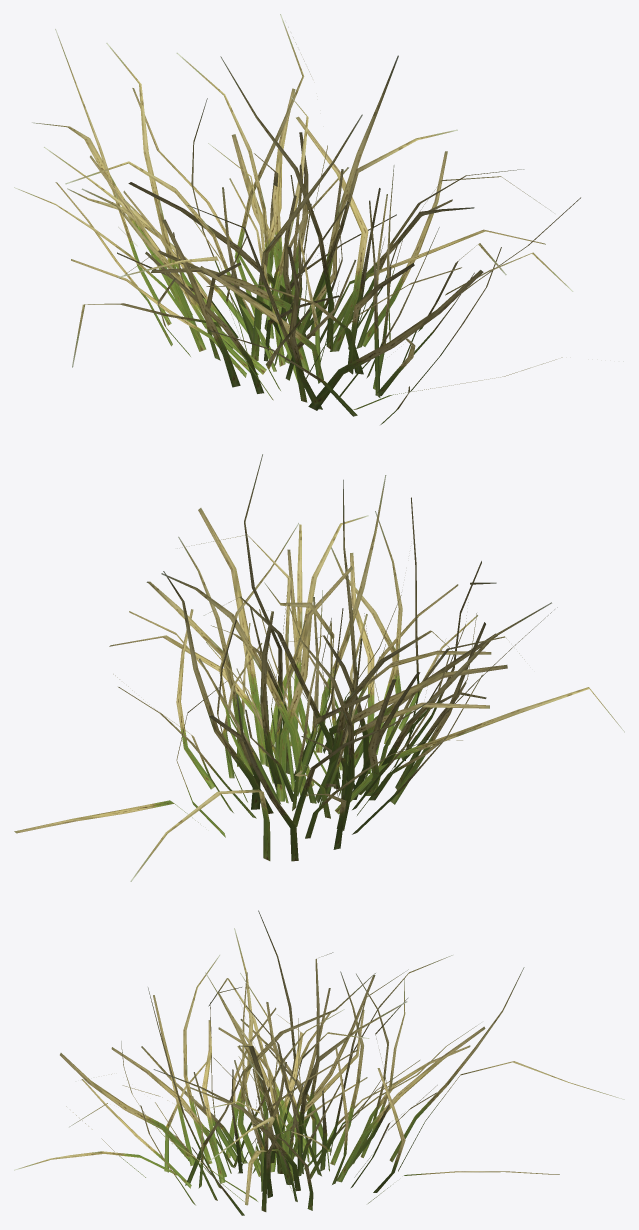
Rendered from grass2.fbx.
The picture shows the model from 3 angles, top to bottom: view 1: azimuth 30°, elevation 25°; view 2: azimuth 150°, elevation 25°; view 3: azimuth 270°, elevation 25°; orthographic projection. The views are drawn at different scales.
Visible parts, largest first — view 1: _ll27_Var9_LOD3; view 2: _ll27_Var9_LOD3; view 3: _ll27_Var9_LOD3.
Boxes of the visible parts, x1,y1,x2,y2 form: _ll27_Var9_LOD3: [14, 14, 623, 424]; _ll27_Var9_LOD3: [14, 454, 624, 881]; _ll27_Var9_LOD3: [14, 910, 624, 1215].
Bounding box in the file's own units: 2.6 × 1.57 × 3.59.
